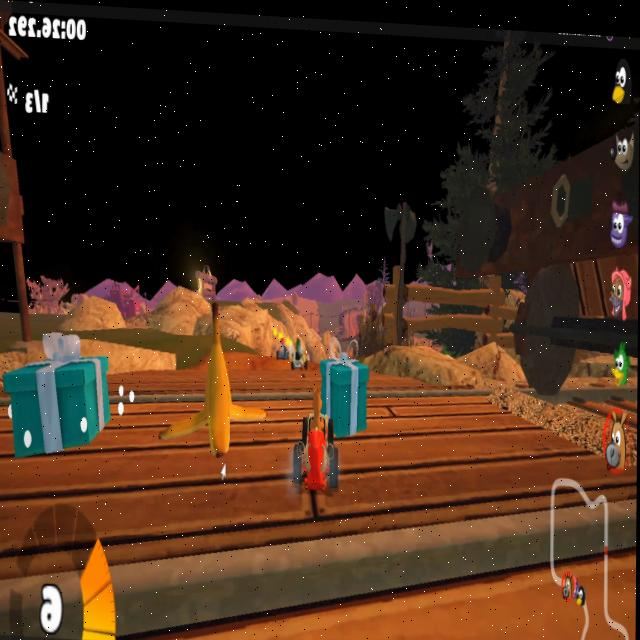bonus: (2, 323, 111, 462), (317, 344, 374, 437)
enemy_kart: (290, 337, 311, 374), (276, 335, 288, 365)
obstacle: (174, 290, 262, 483)
